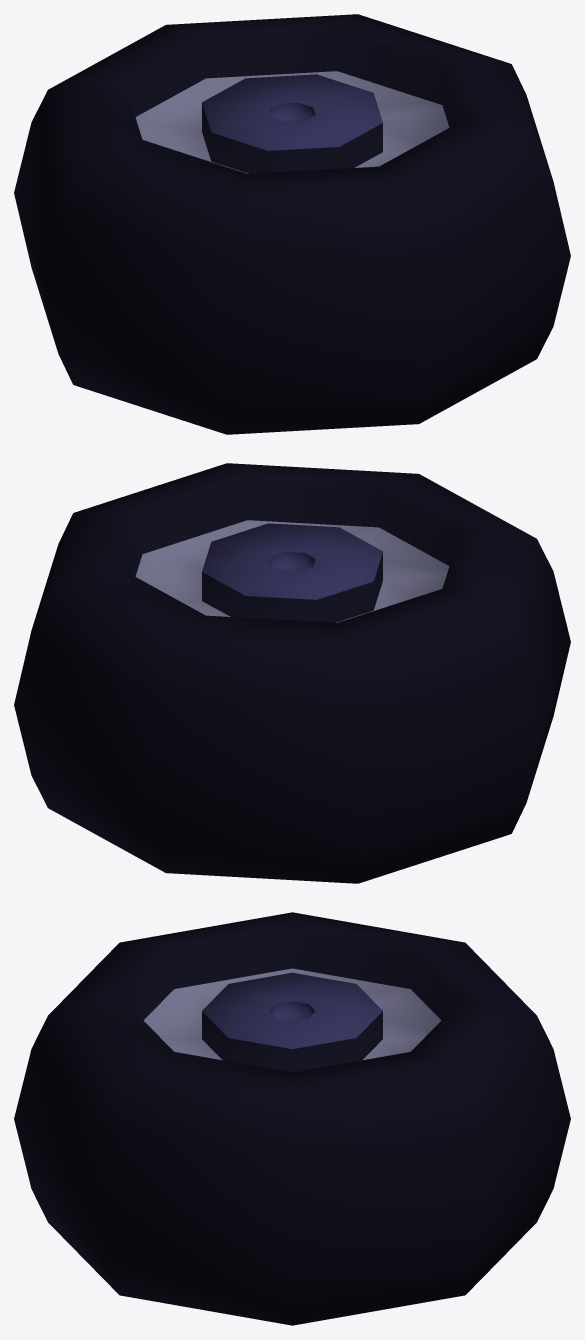
The model's file is Tire.fbx.
3 views of the same model, one above another, from view 1: azimuth 30°, elevation 25°; view 2: azimuth 150°, elevation 25°; view 3: azimuth 270°, elevation 25° (orthographic). The views are drawn at different scales.
Visible parts, largest first — view 1: pCylinder35; view 2: pCylinder35; view 3: pCylinder35.
Boxes of the visible parts, box(x1,y1,x2,y2) form: pCylinder35: box(14, 14, 570, 434); pCylinder35: box(14, 463, 570, 883); pCylinder35: box(14, 912, 570, 1325).
Bounding box in the file's own units: 64.52 × 29.94 × 64.52.
